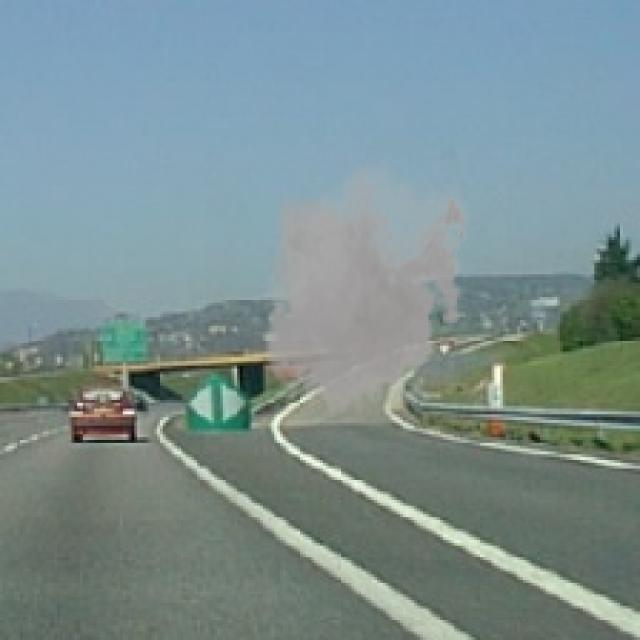smoke: (257, 151, 474, 423)
